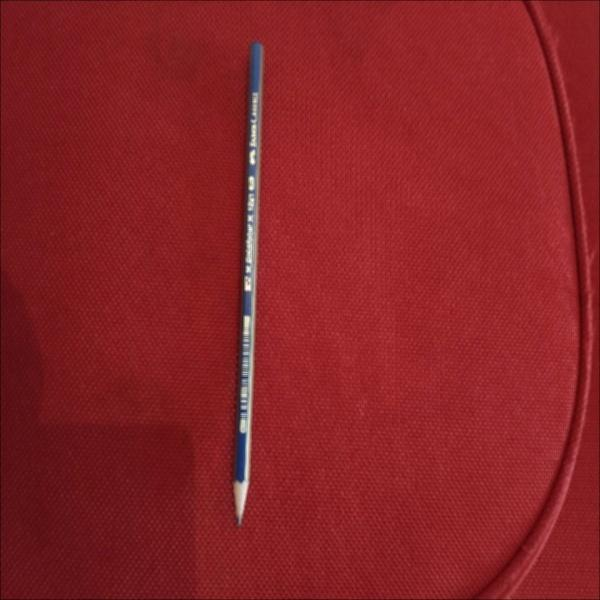pencil: (226, 36, 271, 535)
